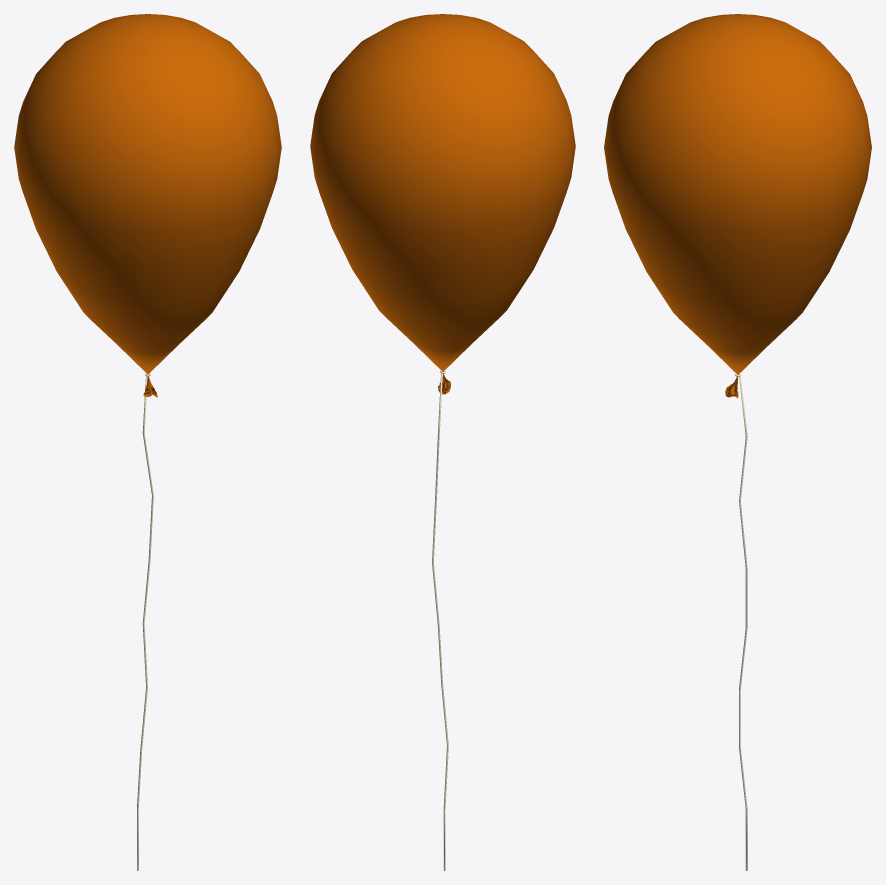
File: Balloon.FBX
3 views of the same model, side by side, from view 1: azimuth 30°, elevation 25°; view 2: azimuth 150°, elevation 25°; view 3: azimuth 270°, elevation 25° (orthographic).
Visible parts, largest first — view 1: balloon; view 2: balloon; view 3: balloon.
Boxes of the visible parts, <box> form: balloon: <box>14,14,281,870</box>; balloon: <box>310,14,575,870</box>; balloon: <box>604,14,871,870</box>.
Size of the model in its own units: 0.316 by 1.1 by 0.316.
